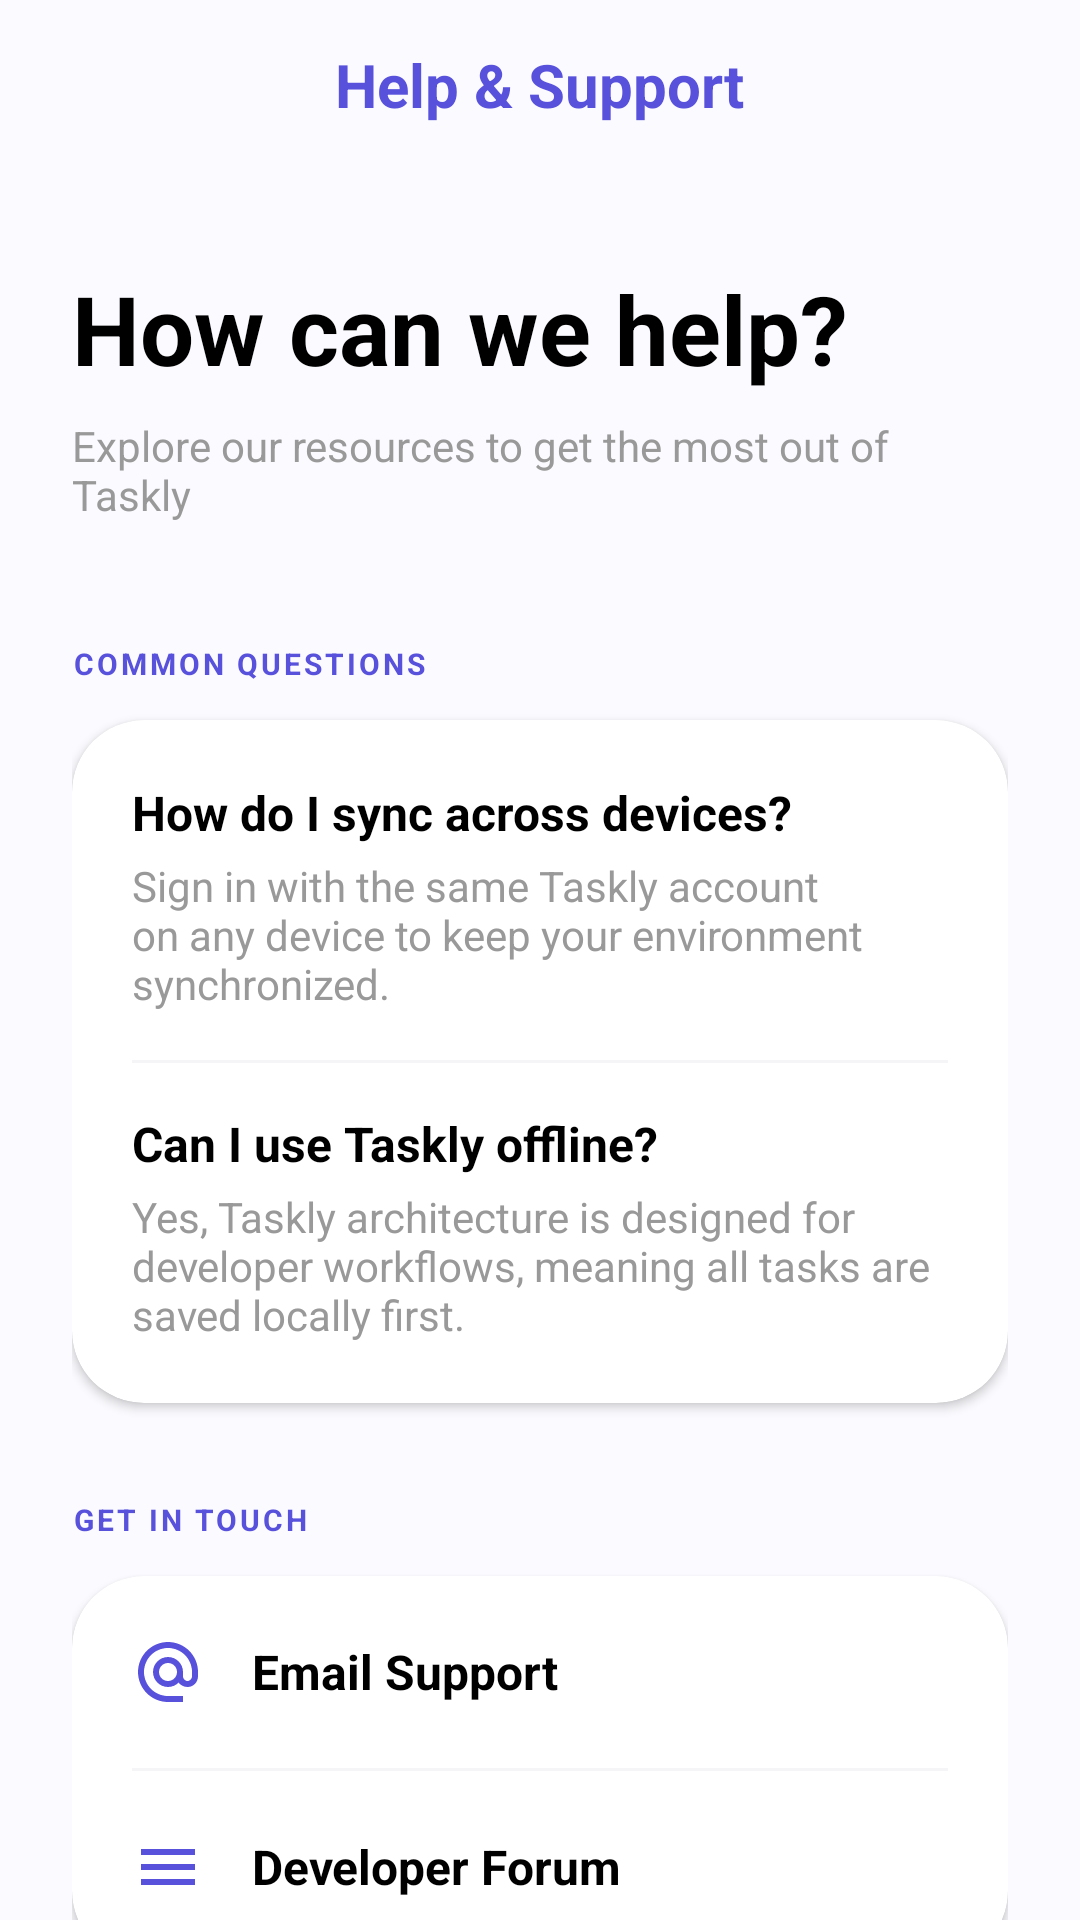

Icon click points for this 1080×1920 phone screenshot, format (x=x, y=y):
email at: (x=168, y=1672)
